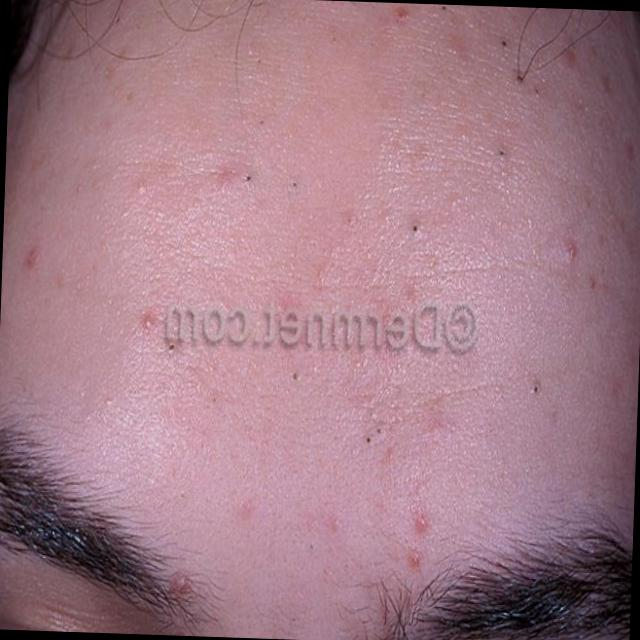blackhead: (114, 15, 121, 22), (259, 118, 264, 126), (168, 344, 174, 350), (246, 175, 251, 181), (517, 78, 522, 83), (376, 428, 381, 433), (502, 40, 506, 46), (292, 181, 296, 187), (413, 226, 417, 231), (533, 386, 537, 391), (366, 437, 370, 442), (442, 6, 446, 10), (294, 372, 296, 379), (499, 152, 504, 154), (536, 90, 538, 94), (213, 398, 215, 402), (258, 59, 260, 62)
